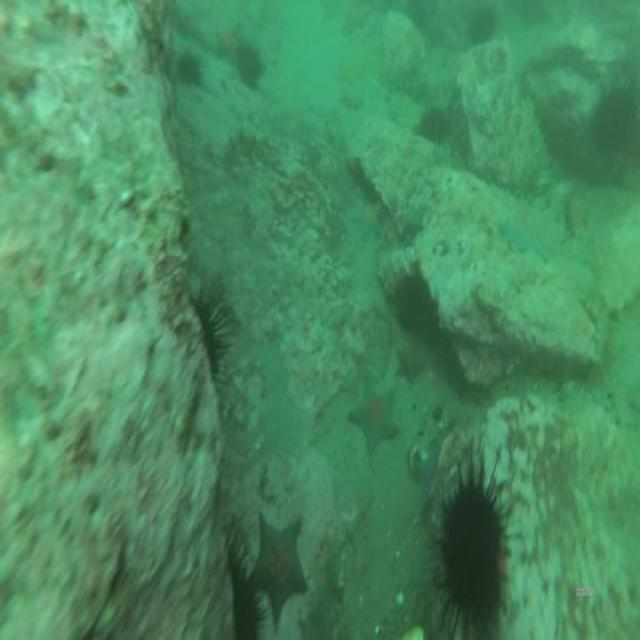echinus: (440, 470, 502, 630), (596, 84, 638, 153), (421, 106, 450, 141), (238, 41, 262, 82), (178, 51, 202, 88)
scallop: (409, 441, 428, 479)
starfish: (250, 517, 308, 621), (349, 378, 399, 450), (497, 215, 547, 259), (349, 198, 383, 242), (397, 202, 427, 240)
